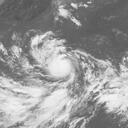cyclone: (29, 33, 84, 92)
